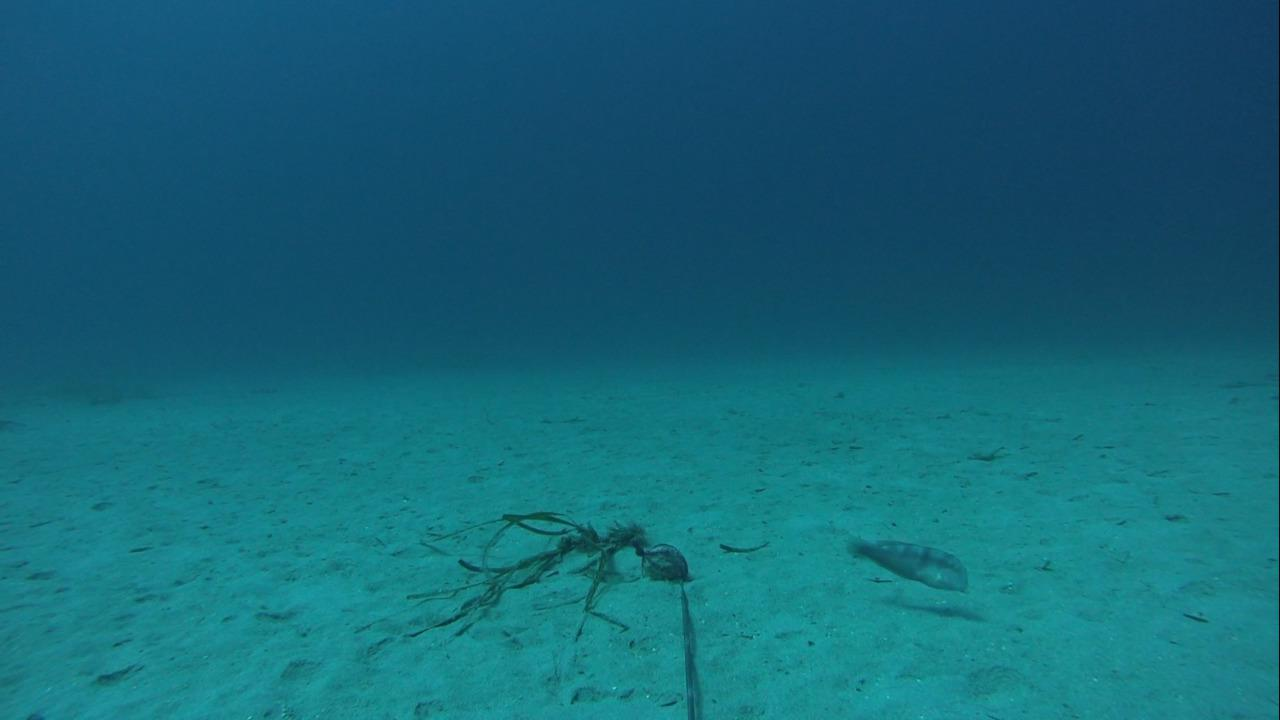raor: (842, 532, 973, 597)
